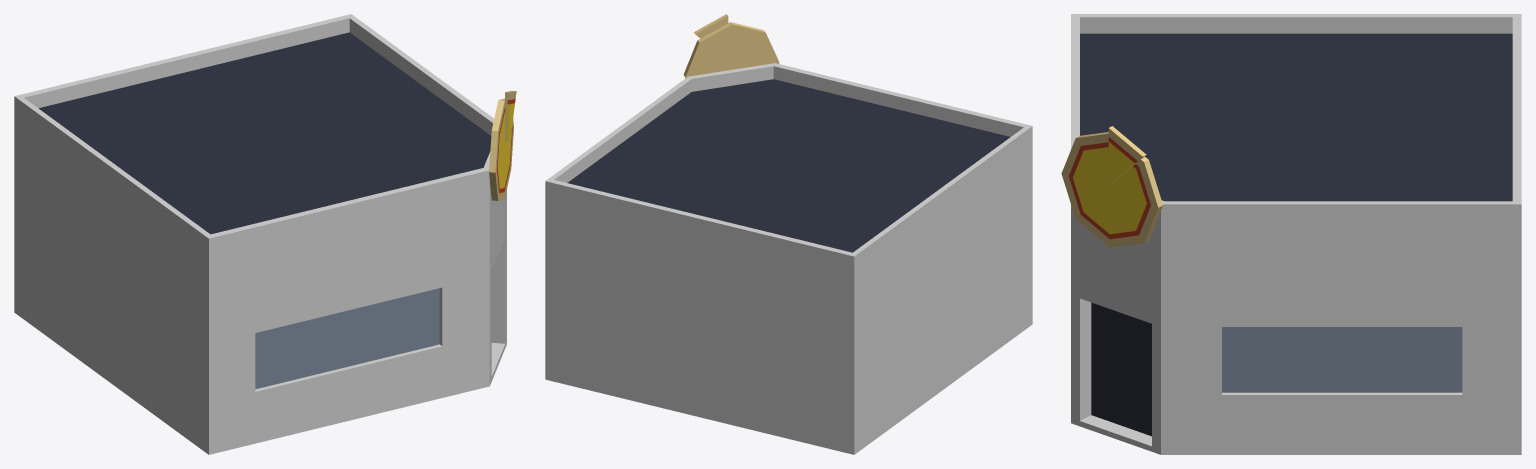
The model's file is Restaurant_v1.fbx.
3 renders of one model, left to right at view 1: azimuth 30°, elevation 25°; view 2: azimuth 150°, elevation 25°; view 3: azimuth 270°, elevation 25°, orthographic. The views are drawn at different scales.
Visible parts, largest first — view 1: Restaurant; view 2: Restaurant; view 3: Restaurant.
Boxes of the visible parts, left/top/right/bottom form: Restaurant: left=14, top=14, right=516, bottom=454; Restaurant: left=545, top=14, right=1032, bottom=454; Restaurant: left=1061, top=14, right=1521, bottom=454.
Size of the model in its own units: 763 by 580 by 766.
